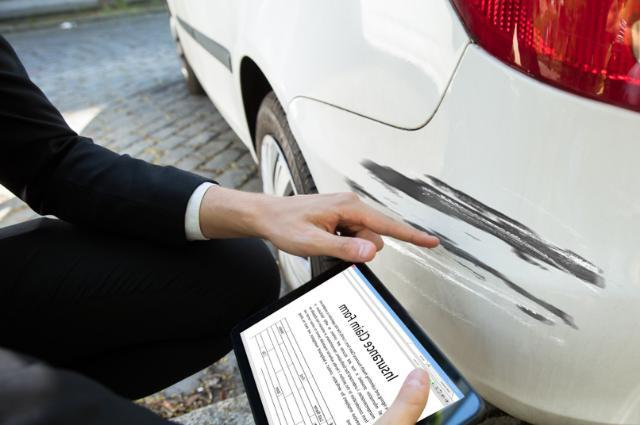Bumper: (310, 128, 640, 386)
